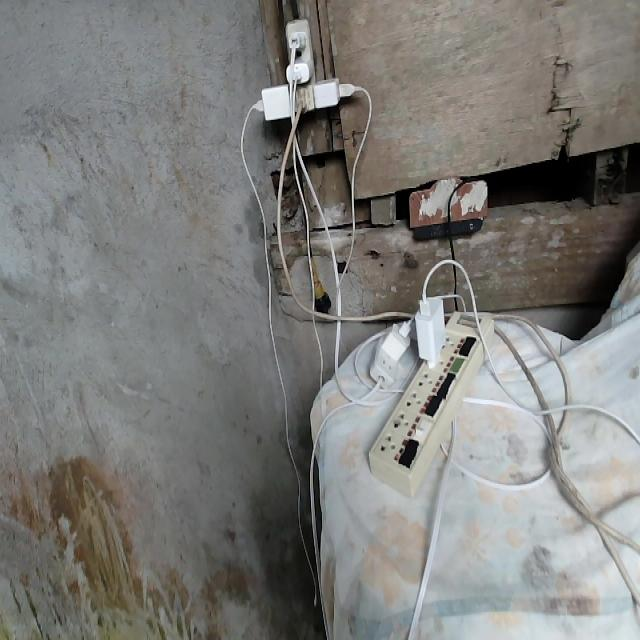-: (248, 18, 353, 122)
